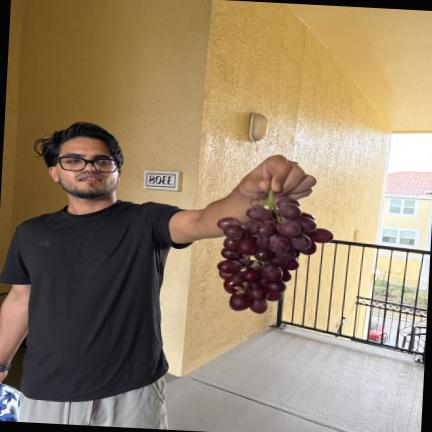grape_cluster: (217, 191, 333, 314)
